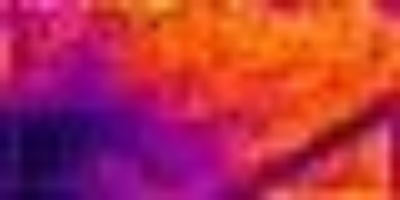Shadow: (1, 68, 204, 200)
